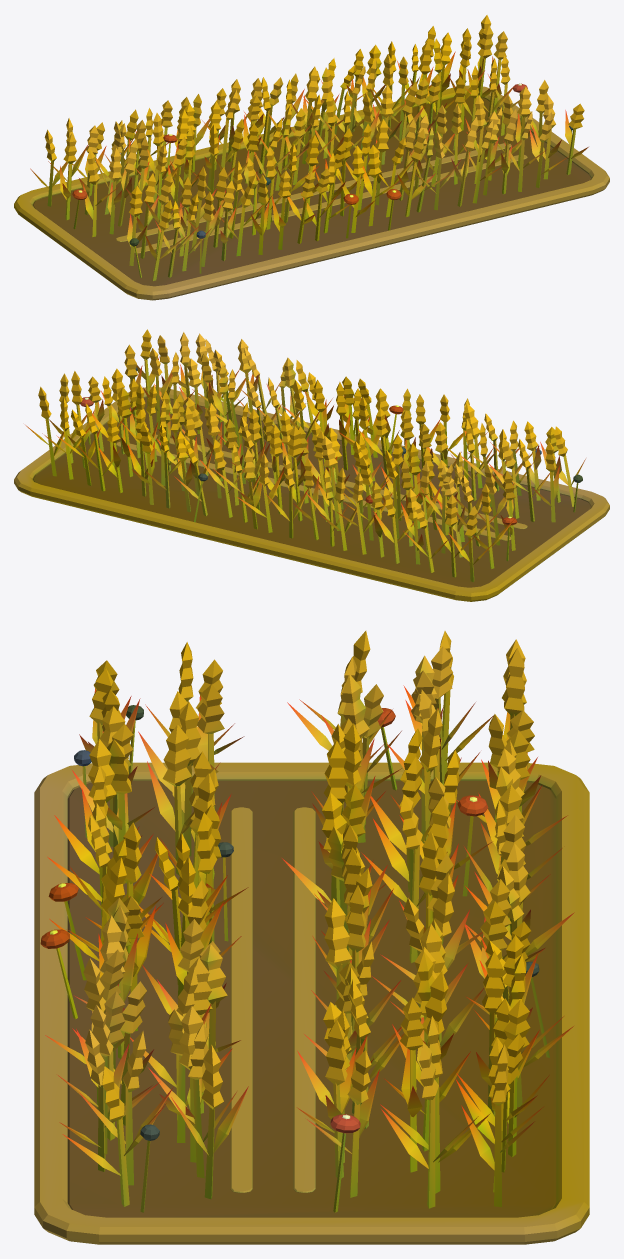
The model's file is Farm_WheatField_6x3m.fbx.
3 renders of one model, top to bottom at view 1: azimuth 30°, elevation 25°; view 2: azimuth 150°, elevation 25°; view 3: azimuth 270°, elevation 25°, orthographic. The views are drawn at different scales.
Visible parts, largest first — view 1: Farm_WheatField_6x3m; view 2: Farm_WheatField_6x3m; view 3: Farm_WheatField_6x3m.
Part boxes in pixels (box(x1,y1,x2,y2)): Farm_WheatField_6x3m: box(14, 15, 609, 300); Farm_WheatField_6x3m: box(14, 329, 609, 601); Farm_WheatField_6x3m: box(34, 630, 589, 1244).
Size of the model in its own units: 6 by 1.2 by 3.
